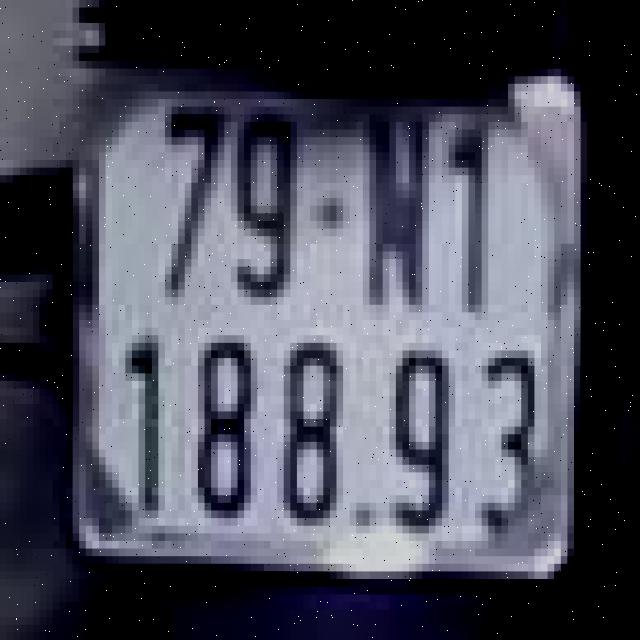1: (439, 107, 498, 343), (112, 308, 172, 530)
3: (468, 343, 548, 556)
7: (145, 88, 231, 301)
8: (185, 328, 264, 533), (274, 324, 346, 545)
9: (379, 339, 458, 545), (228, 95, 300, 309)
N: (356, 95, 436, 339)
